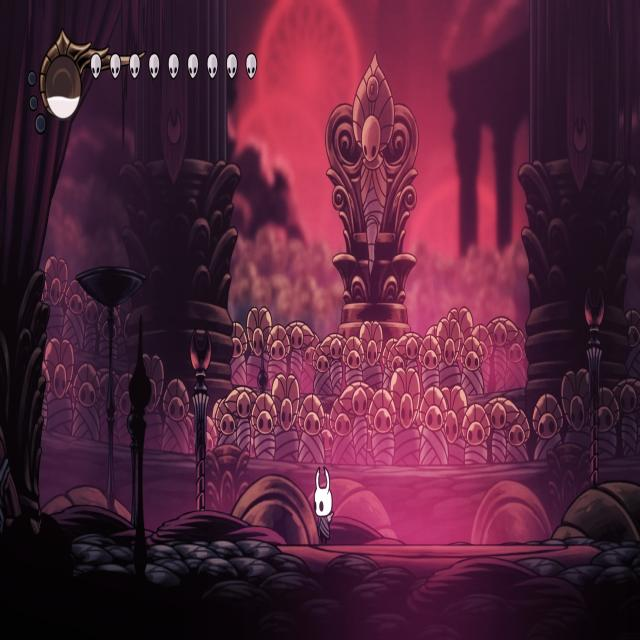Player: (312, 460, 336, 547)
